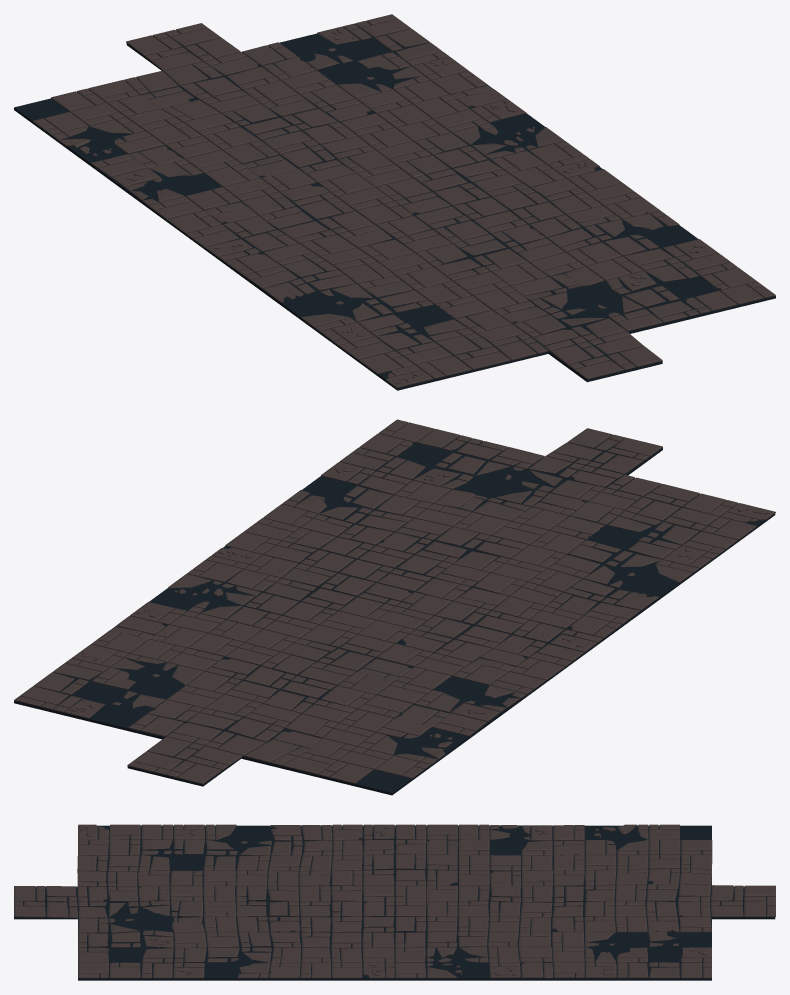
File: GroundStoneSlabsNew_04.fbx
The picture shows the model from 3 angles, top to bottom: view 1: azimuth 30°, elevation 25°; view 2: azimuth 150°, elevation 25°; view 3: azimuth 270°, elevation 25°; orthographic projection. The views are drawn at different scales.
Visible parts, largest first — view 1: StoneSlabs_03, Ground_03, StoneSlabsSmall_03; view 2: StoneSlabs_03, Ground_03, StoneSlabsSmall_03; view 3: StoneSlabs_03, Ground_03, StoneSlabsSmall_03.
Part boxes in pixels (<box>): StoneSlabs_03: <box>32,14,775,388</box>; Ground_03: <box>14,21,775,390</box>; StoneSlabsSmall_03: <box>80,28,704,384</box>; StoneSlabs_03: <box>14,419,775,784</box>; Ground_03: <box>14,437,775,795</box>; StoneSlabsSmall_03: <box>70,466,770,747</box>; StoneSlabs_03: <box>14,824,775,978</box>; Ground_03: <box>14,825,775,980</box>; StoneSlabsSmall_03: <box>80,824,707,975</box>.
Bounding box in the file's own units: 1600 × 20.41 × 3366.
